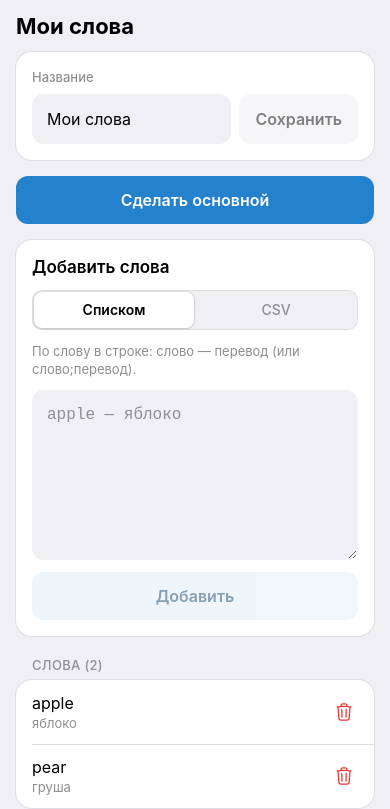
Test: DeckEditView › main deck › chooses the deck through the course selection and shows the chip instead of the button
What coordinates should you click on to do the following:
click the button with test id "choose-btn"
I would click on:
 (195, 200)
Its box is [16,176,374,224].
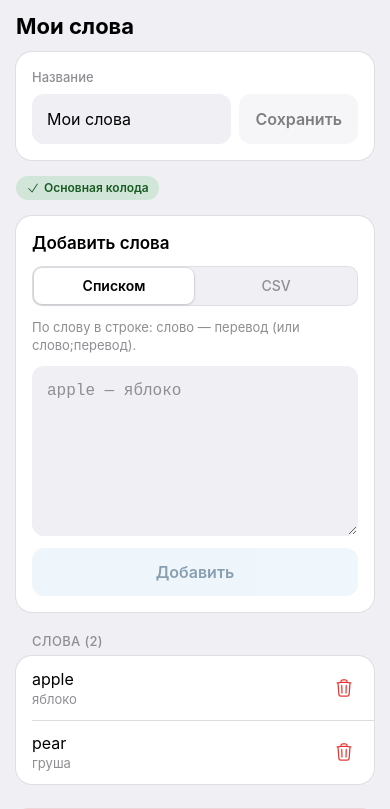
Now the element with test id "active-badge" reads "Основная колода", box [44,180,149,195]
